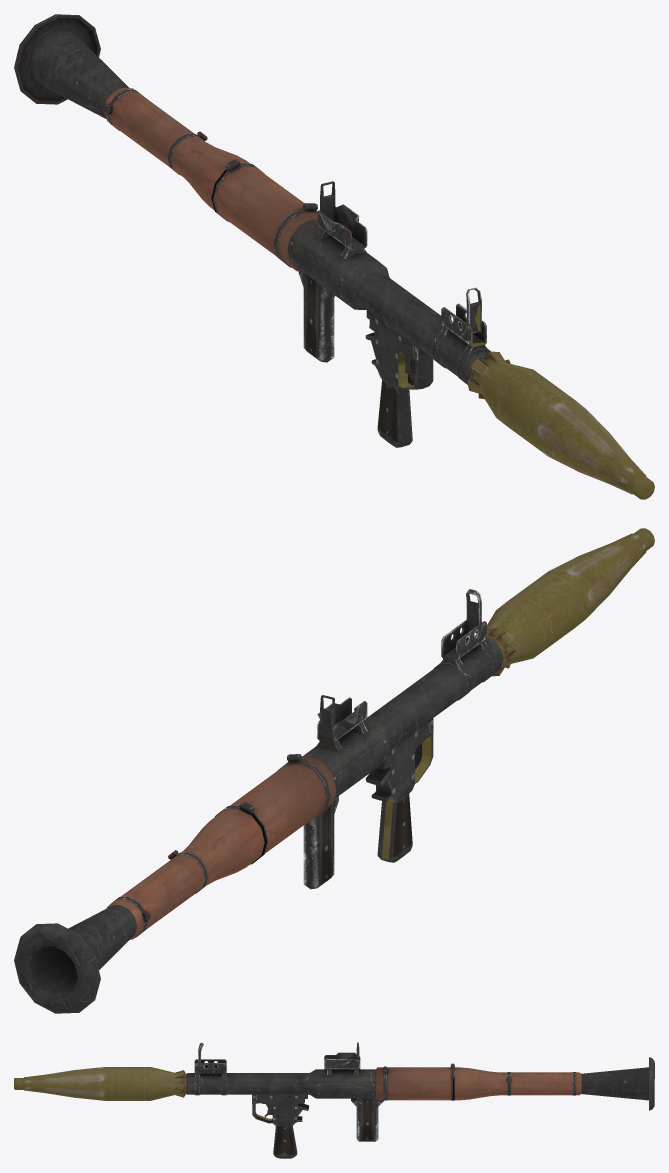
Rendered from rocket-launcher.glb.
3 views of the same model, one above another, from view 1: azimuth 30°, elevation 25°; view 2: azimuth 150°, elevation 25°; view 3: azimuth 270°, elevation 25° (orthographic). The views are drawn at different scales.
Parts seen in each view (by area): view 1: Object_2, rocket; view 2: Object_2, rocket; view 3: Object_2, rocket.
Boxes of the visible parts, x1,y1,x2,y2 form: Object_2: (14,14,490,447); rocket: (467,351,654,499); Object_2: (14,589,503,1013); rocket: (475,528,654,676); Object_2: (186,1042,654,1158); rocket: (14,1067,186,1100).
Bounding box in the file's own units: 0.1171 × 0.2748 × 1.4.
Materials: 1 (1 with a texture image).
